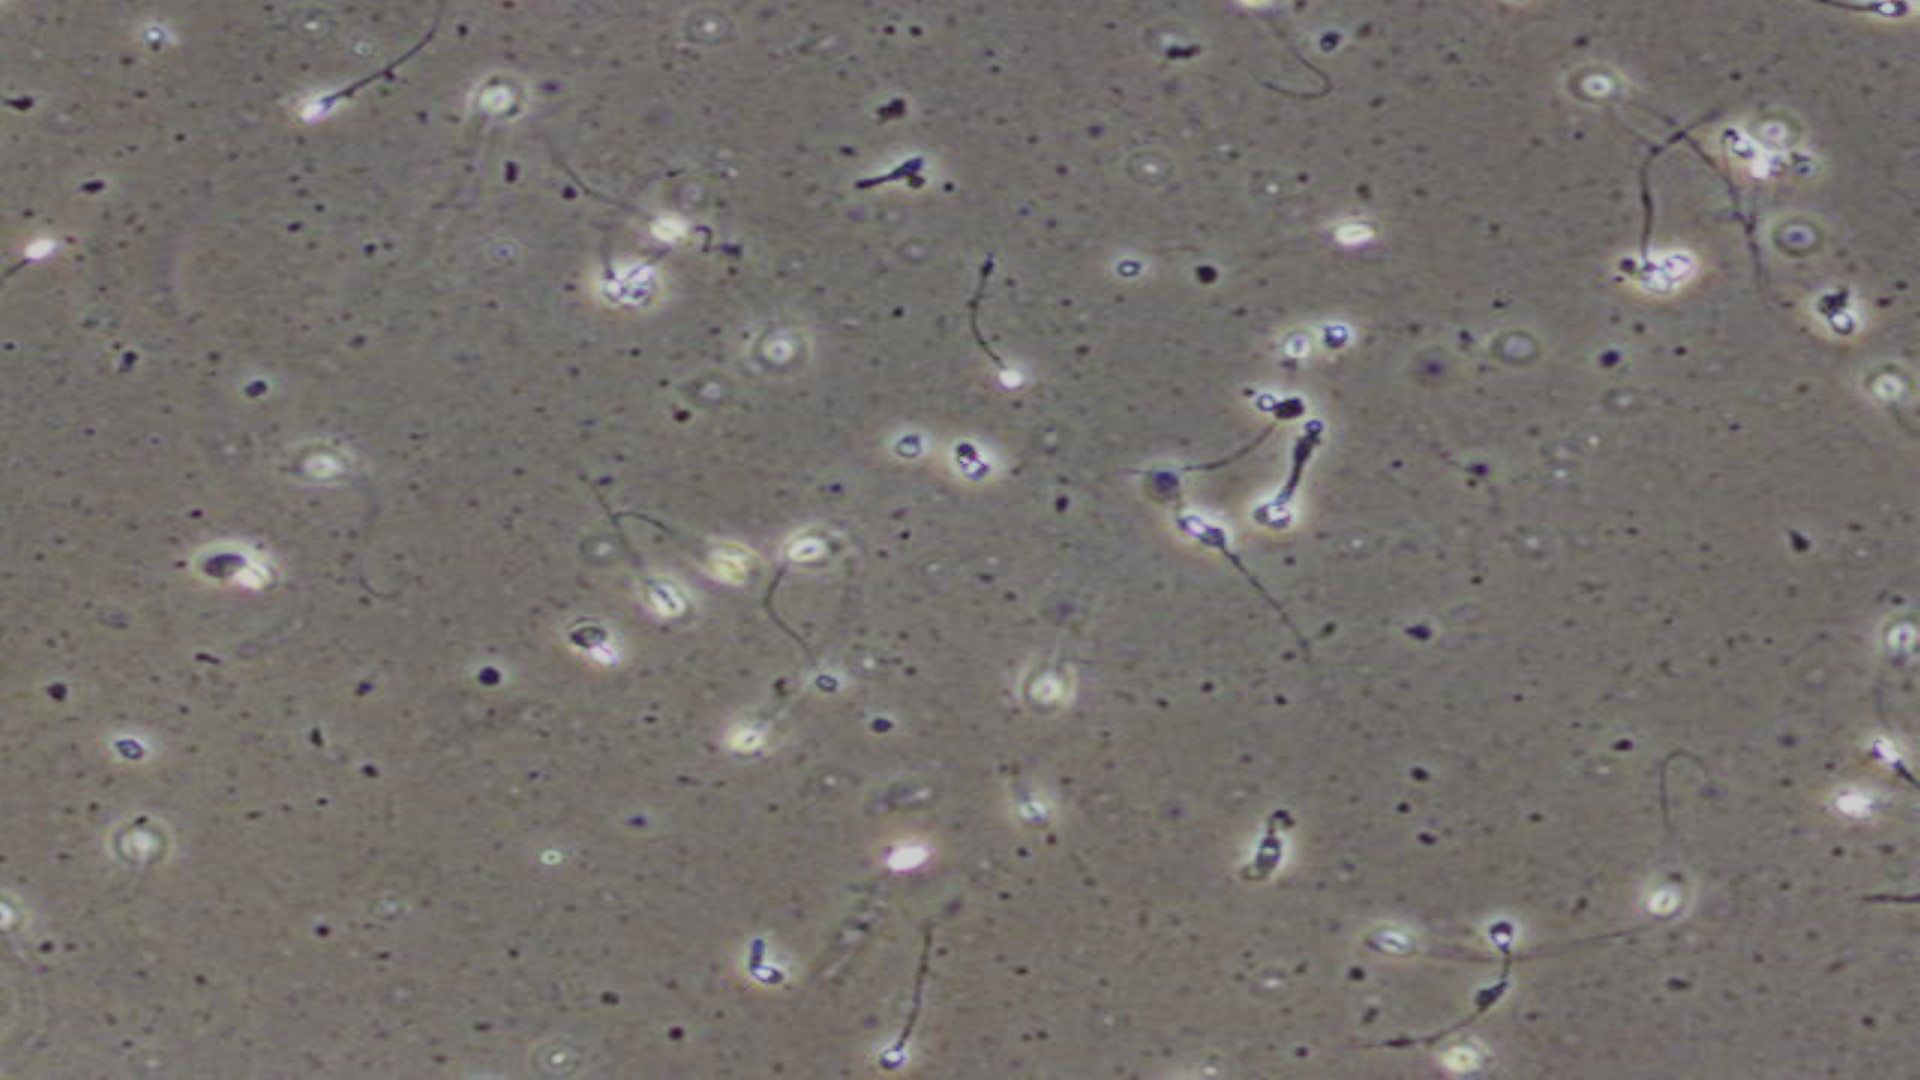sperm: (959, 274, 1031, 400), (754, 539, 835, 647), (284, 57, 400, 131), (1164, 514, 1261, 600), (872, 968, 949, 1069), (1470, 920, 1543, 1021), (1625, 166, 1675, 302), (1, 232, 76, 291), (1851, 731, 1920, 789), (1824, 1, 1905, 32)
